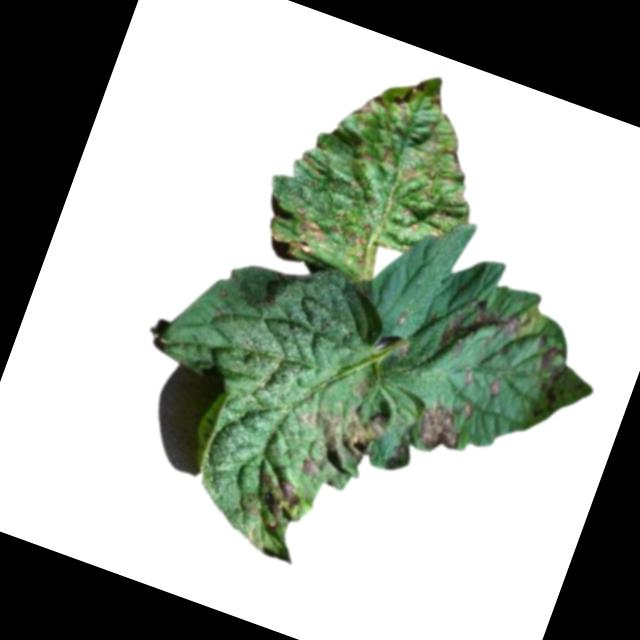Early_blight: (286, 391, 391, 498), (431, 289, 530, 383), (234, 467, 305, 539), (411, 397, 467, 459), (284, 213, 327, 261), (392, 72, 431, 123), (351, 87, 392, 128), (528, 333, 562, 378), (326, 220, 372, 251)
